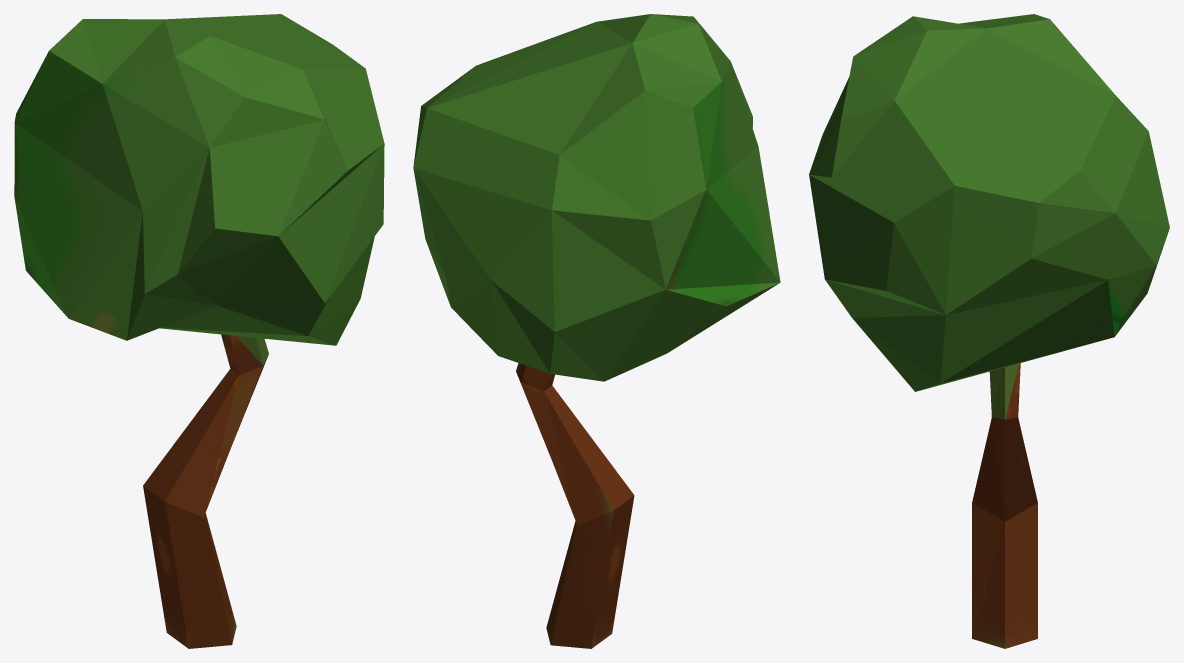
Rendered from onemesh-tree-texturized.glb.
3 renders of one model, left to right at view 1: azimuth 30°, elevation 25°; view 2: azimuth 150°, elevation 25°; view 3: azimuth 270°, elevation 25°, orthographic. The views are drawn at different scales.
Parts seen in each view (by area): view 1: Mesh_0; view 2: Mesh_0; view 3: Mesh_0.
Part boxes in pixels (left/top/right/bottom): Mesh_0: left=14, top=14, right=384, bottom=648; Mesh_0: left=413, top=14, right=780, bottom=648; Mesh_0: left=809, top=14, right=1169, bottom=648.
Size of the model in its own units: 0.5359 by 1 by 0.5568.
Materials: 1 (1 with a texture image).
